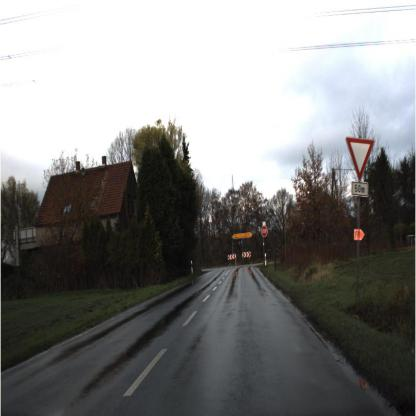other: (346, 132, 376, 182), (259, 223, 270, 238)
